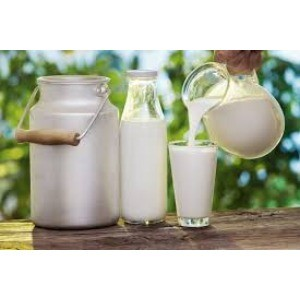milk_brain food: (118, 77, 161, 221), (187, 84, 289, 131), (174, 144, 221, 220)
